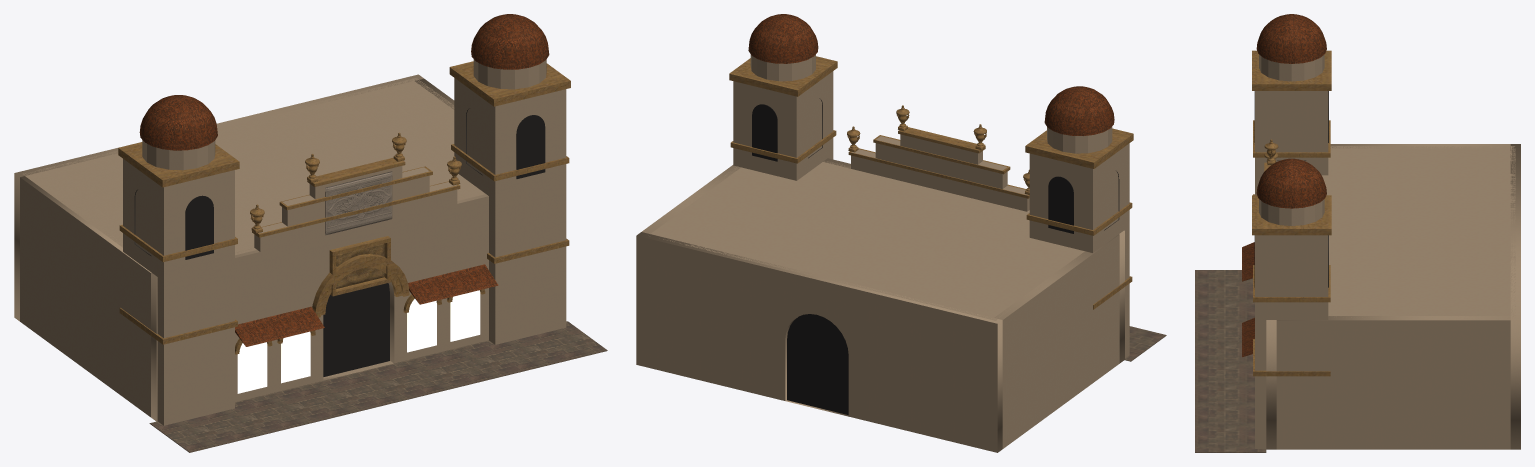
File: girard-gate.glb
3 renders of one model, left to right at view 1: azimuth 30°, elevation 25°; view 2: azimuth 150°, elevation 25°; view 3: azimuth 270°, elevation 25°, orthographic. The views are drawn at different scales.
Parts seen in each view (by area): view 1: girard_wall, girard_floor, girard_trim, girard_roof, girard_shadow, girard_glass, merged_girard_relief_girard-gate-tiles, merged_girard_trim, merged_girard_relief_girard-cartouche; view 2: girard_wall, girard_shadow, girard_trim, girard_roof, merged_girard_trim, girard_floor; view 3: girard_wall, girard_floor, girard_roof, girard_trim.
Boxes of the visible parts, box(x1,y1,x2,y2) form: girard_wall: box(14, 59, 566, 425); girard_floor: box(149, 321, 607, 452); girard_trim: box(118, 61, 570, 354); girard_roof: box(139, 14, 549, 346); girard_shadow: box(134, 108, 545, 376); girard_glass: box(237, 290, 480, 393); merged_girard_relief_girard-gate-tiles: box(325, 171, 392, 235); merged_girard_trim: box(250, 132, 461, 233); merged_girard_relief_girard-cartouche: box(336, 243, 384, 288); girard_wall: box(636, 54, 1129, 452); girard_shadow: box(752, 98, 1119, 414); girard_trim: box(729, 56, 1133, 309); girard_roof: box(748, 14, 1114, 135); merged_girard_trim: box(847, 105, 1029, 194); girard_floor: box(797, 317, 1166, 361); girard_wall: box(1255, 54, 1520, 449); girard_floor: box(1195, 270, 1266, 452); girard_roof: box(1242, 14, 1326, 357); girard_trim: box(1252, 50, 1331, 376).
Bounding box in the file's own units: 21.2 × 14.75 × 16.
Materials: 8 (6 with a texture image).
